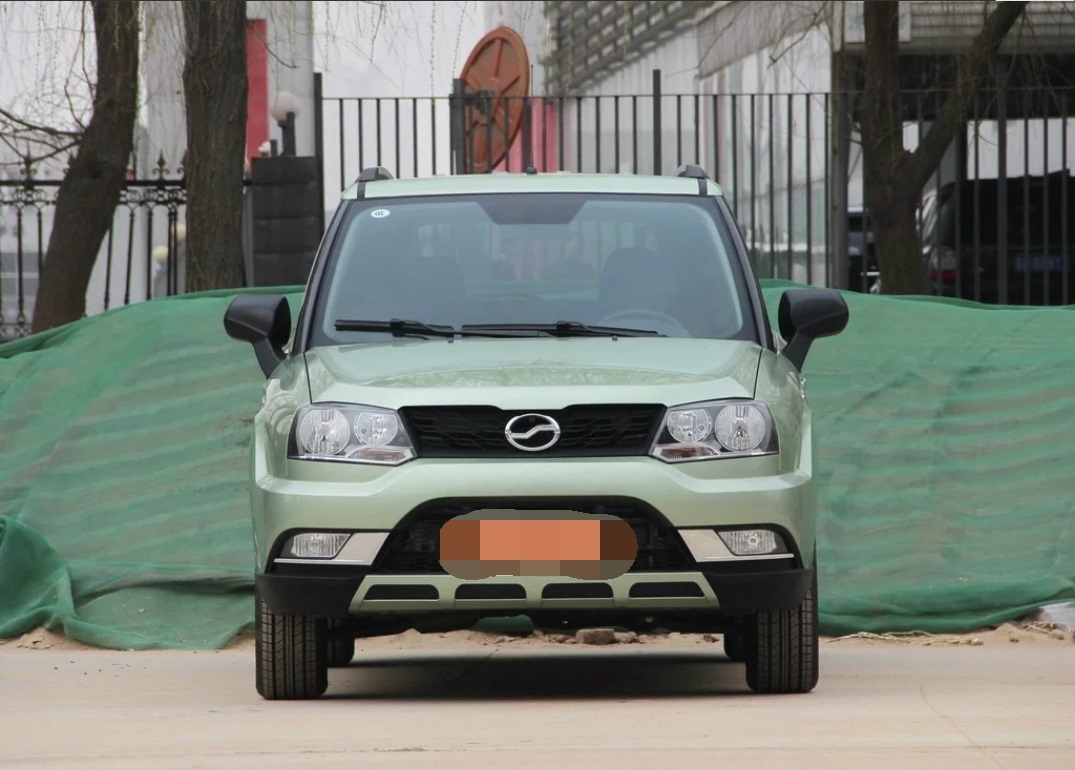SUV: (216, 161, 845, 703)
